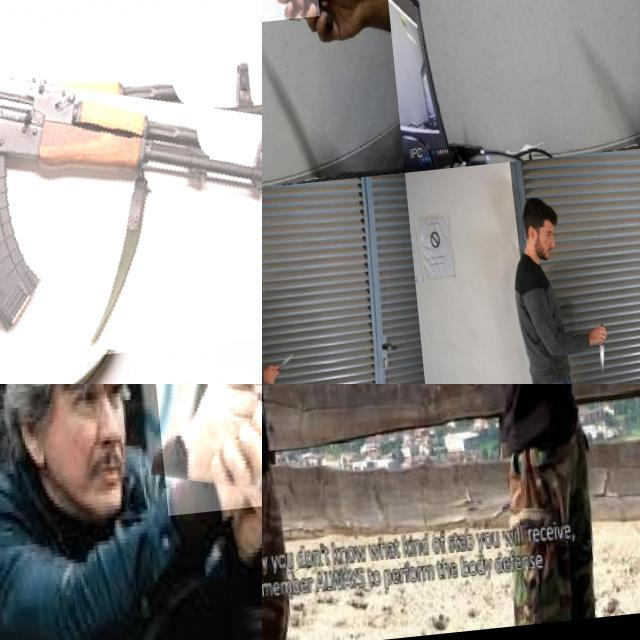-: (541, 0, 640, 54), (262, 0, 316, 59), (262, 384, 293, 450), (582, 331, 599, 384), (262, 355, 286, 380)
gun-knife-thesis - v11 Yolov5 augmented: (0, 30, 262, 384), (140, 384, 262, 522)
